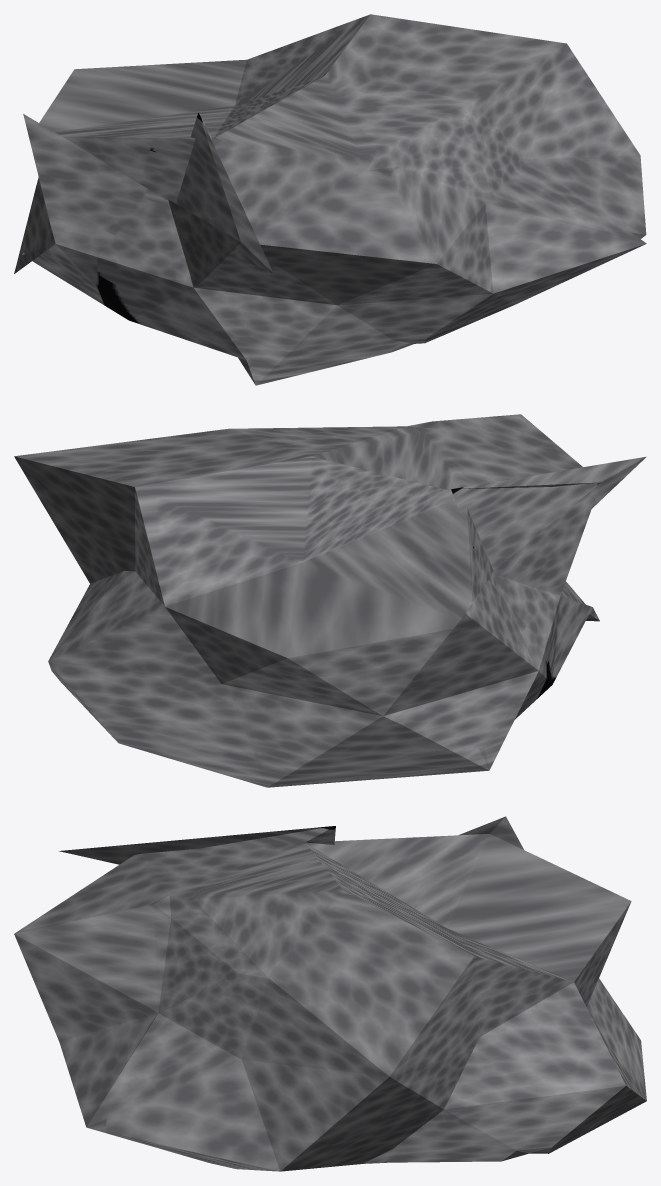
The picture shows the model from 3 angles, top to bottom: view 1: azimuth 30°, elevation 25°; view 2: azimuth 150°, elevation 25°; view 3: azimuth 270°, elevation 25°; orthographic projection. The views are drawn at different scales.
Visible parts, largest first — view 1: 바위_04; view 2: 바위_04; view 3: 바위_04.
Boxes of the visible parts, bbox=[...] form: 바위_04: bbox=[14, 14, 646, 385]; 바위_04: bbox=[14, 414, 646, 787]; 바위_04: bbox=[14, 816, 646, 1171].
Size of the model in its own units: 4580 by 1585 by 4501.
Materials: 1 (1 with a texture image).
